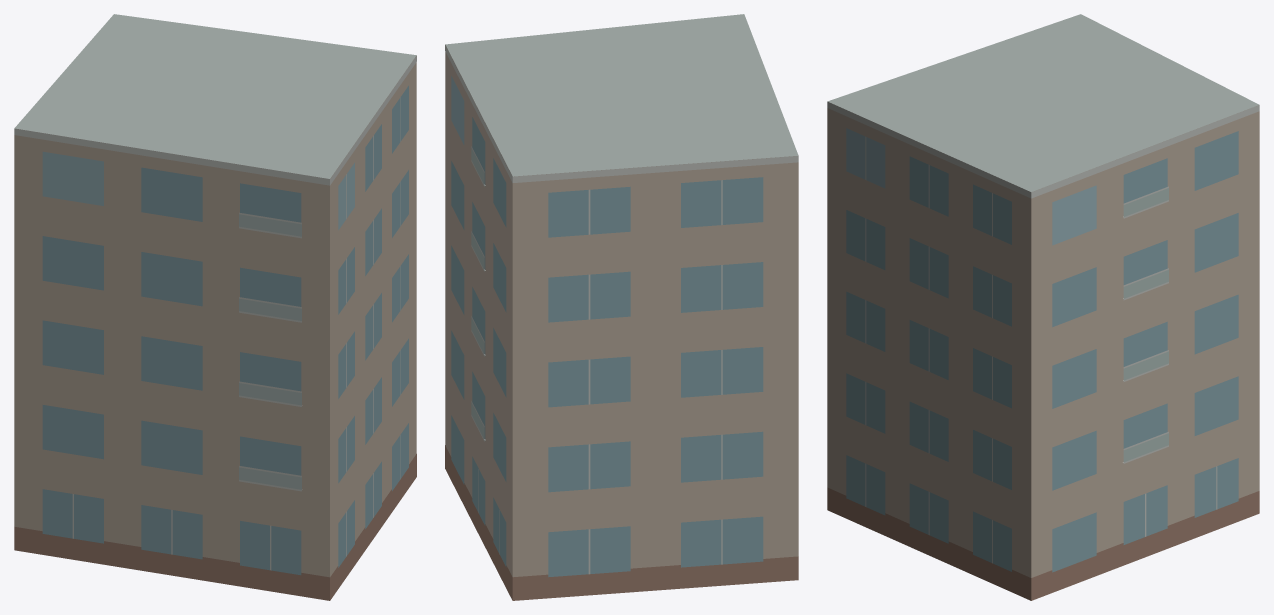
The model's file is survey-upis-32563773.glb.
3 renders of one model, left to right at view 1: azimuth 30°, elevation 25°; view 2: azimuth 150°, elevation 25°; view 3: azimuth 270°, elevation 25°, orthographic. The views are drawn at different scales.
Parts seen in each view (by area): view 1: survey-upis-32563773.tmp; view 2: survey-upis-32563773.tmp; view 3: survey-upis-32563773.tmp.
Boxes of the visible parts, x1,y1,x2,y2 form: survey-upis-32563773.tmp: [14, 14, 416, 600]; survey-upis-32563773.tmp: [445, 14, 798, 600]; survey-upis-32563773.tmp: [827, 14, 1259, 600].
Size of the model in its own units: 14.59 by 15.6 by 14.96.
